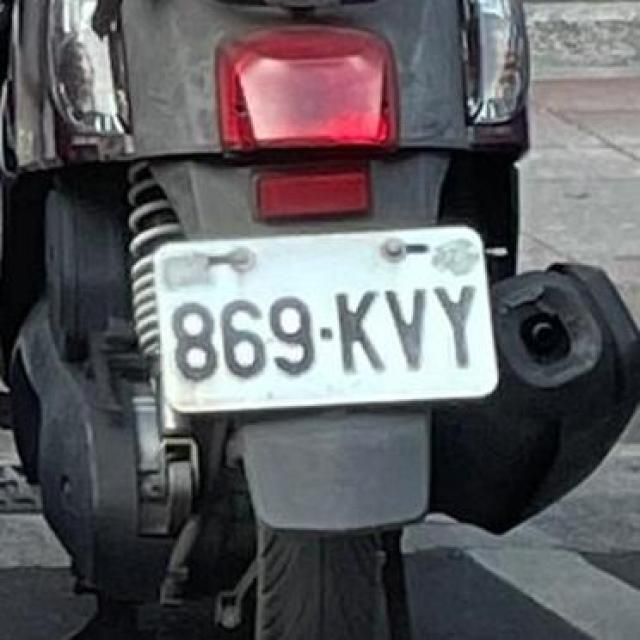W: (143, 203, 506, 427)
